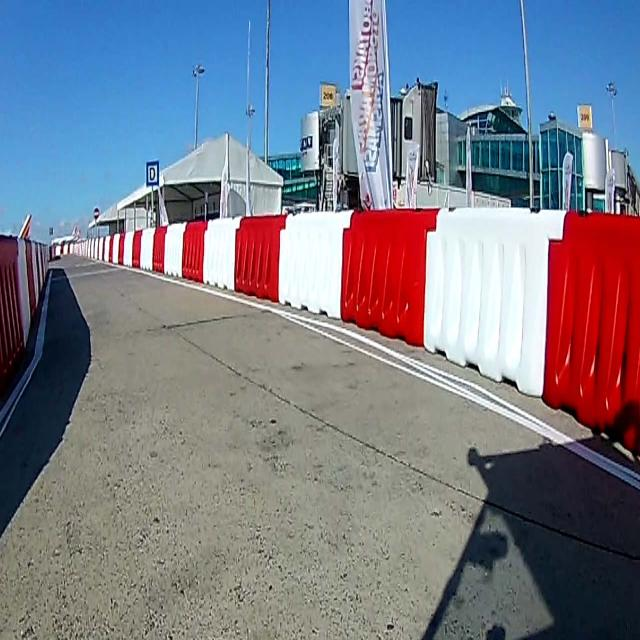durak: (146, 160, 158, 188)
girisyok: (94, 207, 100, 220)
